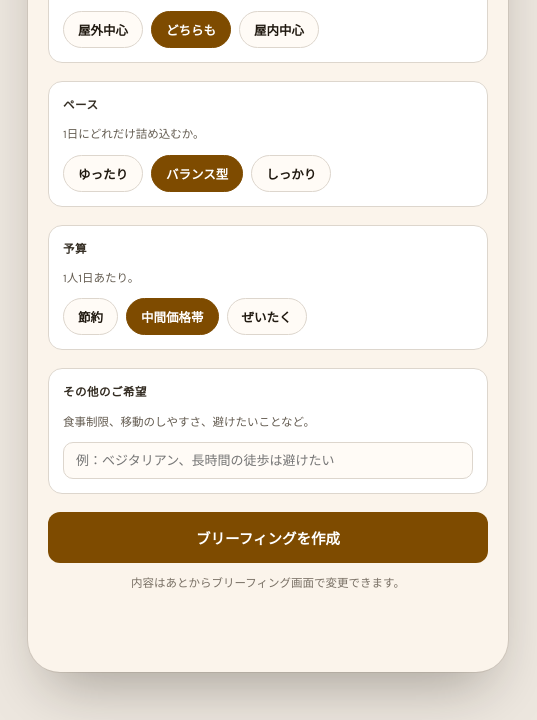
Test case: AppTabs › 旅のプロフィールからブリーフィング画面へ移る
(page scrolled)
Click the button "ブリーフィングを作成".
click(268, 538)  # box left=48, top=512, right=488, bottom=563
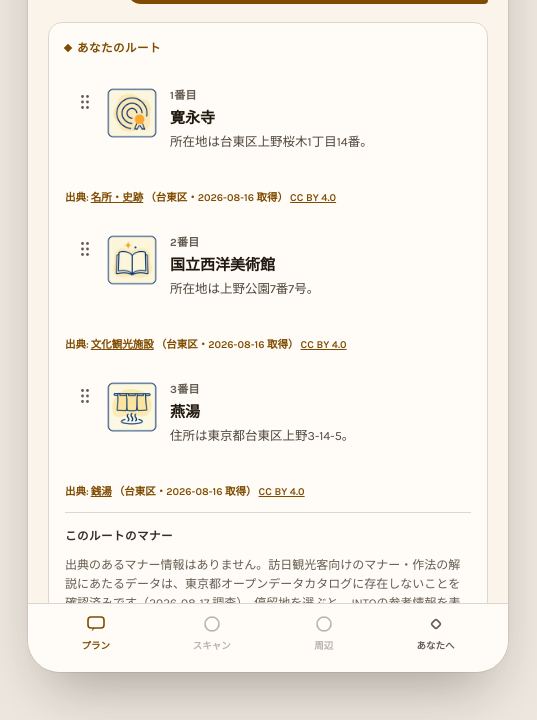
expect the text "あなたのルート" is shown: met, box left=77, top=39, right=161, bottom=58
expect the text "寛永寺" is shown: met, box left=170, top=108, right=215, bottom=127
